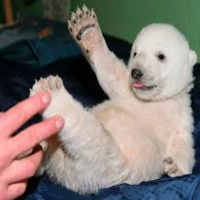ring: (7, 144, 63, 181)
